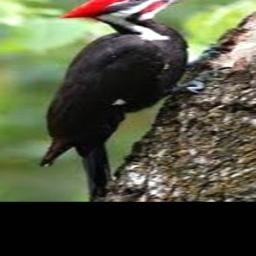Woodpecker: (41, 0, 221, 201)
